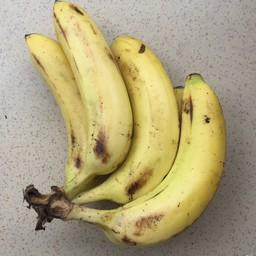Banana Ripe: (42, 67, 228, 256), (73, 23, 182, 225), (51, 2, 130, 213), (24, 25, 85, 207)
